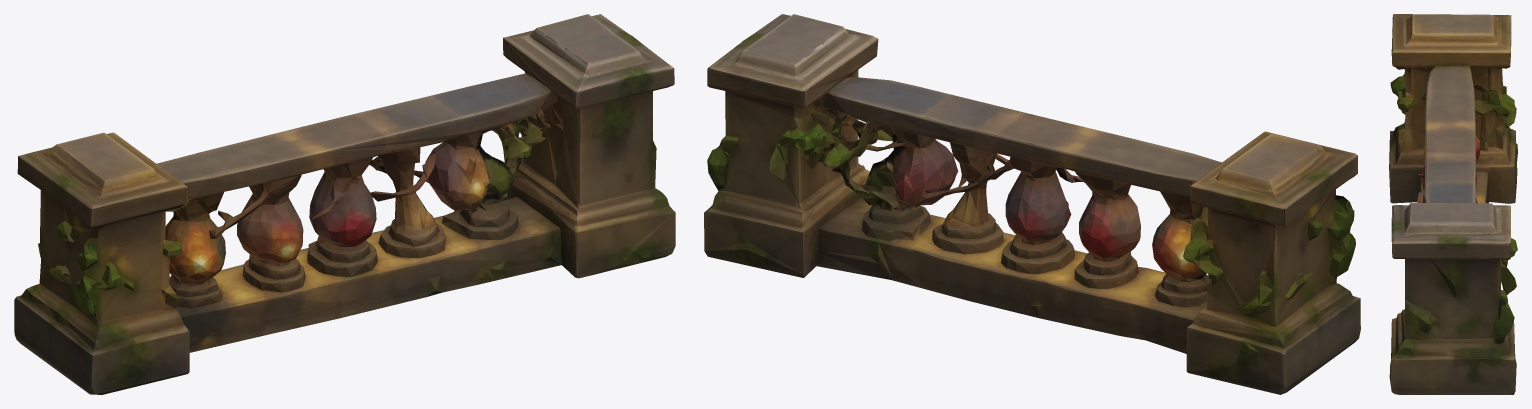
3 views of the same model, side by side, from view 1: azimuth 30°, elevation 25°; view 2: azimuth 150°, elevation 25°; view 3: azimuth 270°, elevation 25° (orthographic). The views are drawn at different scales.
Parts seen in each view (by area): view 1: world; view 2: world; view 3: world.
Part boxes in pixels (x1=…): world: x1=14, y1=14, x2=675, y2=394; world: x1=704, y1=14, x2=1360, y2=394; world: x1=1389, y1=14, x2=1517, y2=394.
Bounding box in the file's own units: 0.9983 × 0.3307 × 0.236.
1 material, 1 textured.
